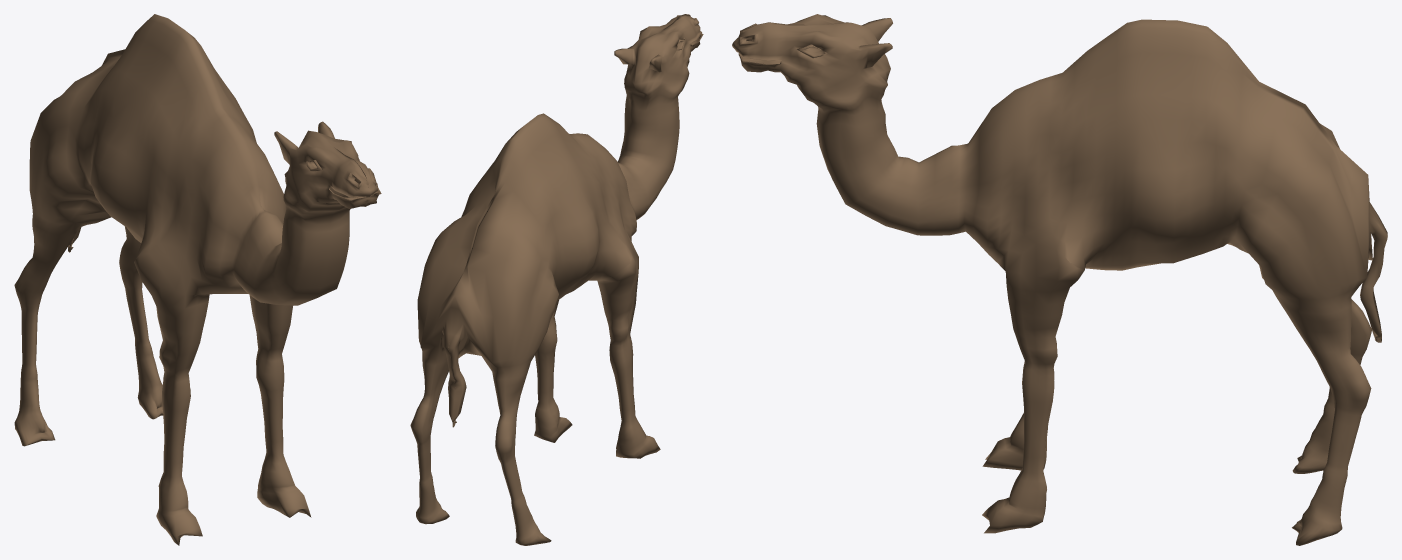
Rendered from camel.glb.
3 views of the same model, side by side, from view 1: azimuth 30°, elevation 25°; view 2: azimuth 150°, elevation 25°; view 3: azimuth 270°, elevation 25° (orthographic). The views are drawn at different scales.
Visible parts, largest first — view 1: Plane_Plane_camel_tex; view 2: Plane_Plane_camel_tex; view 3: Plane_Plane_camel_tex.
Part boxes in pixels (x1=…): Plane_Plane_camel_tex: x1=14, y1=14, x2=381, y2=545; Plane_Plane_camel_tex: x1=410, y1=14, x2=703, y2=545; Plane_Plane_camel_tex: x1=732, y1=14, x2=1387, y2=545.
Bounding box in the file's own units: 2.42 × 6.5 × 7.88.
